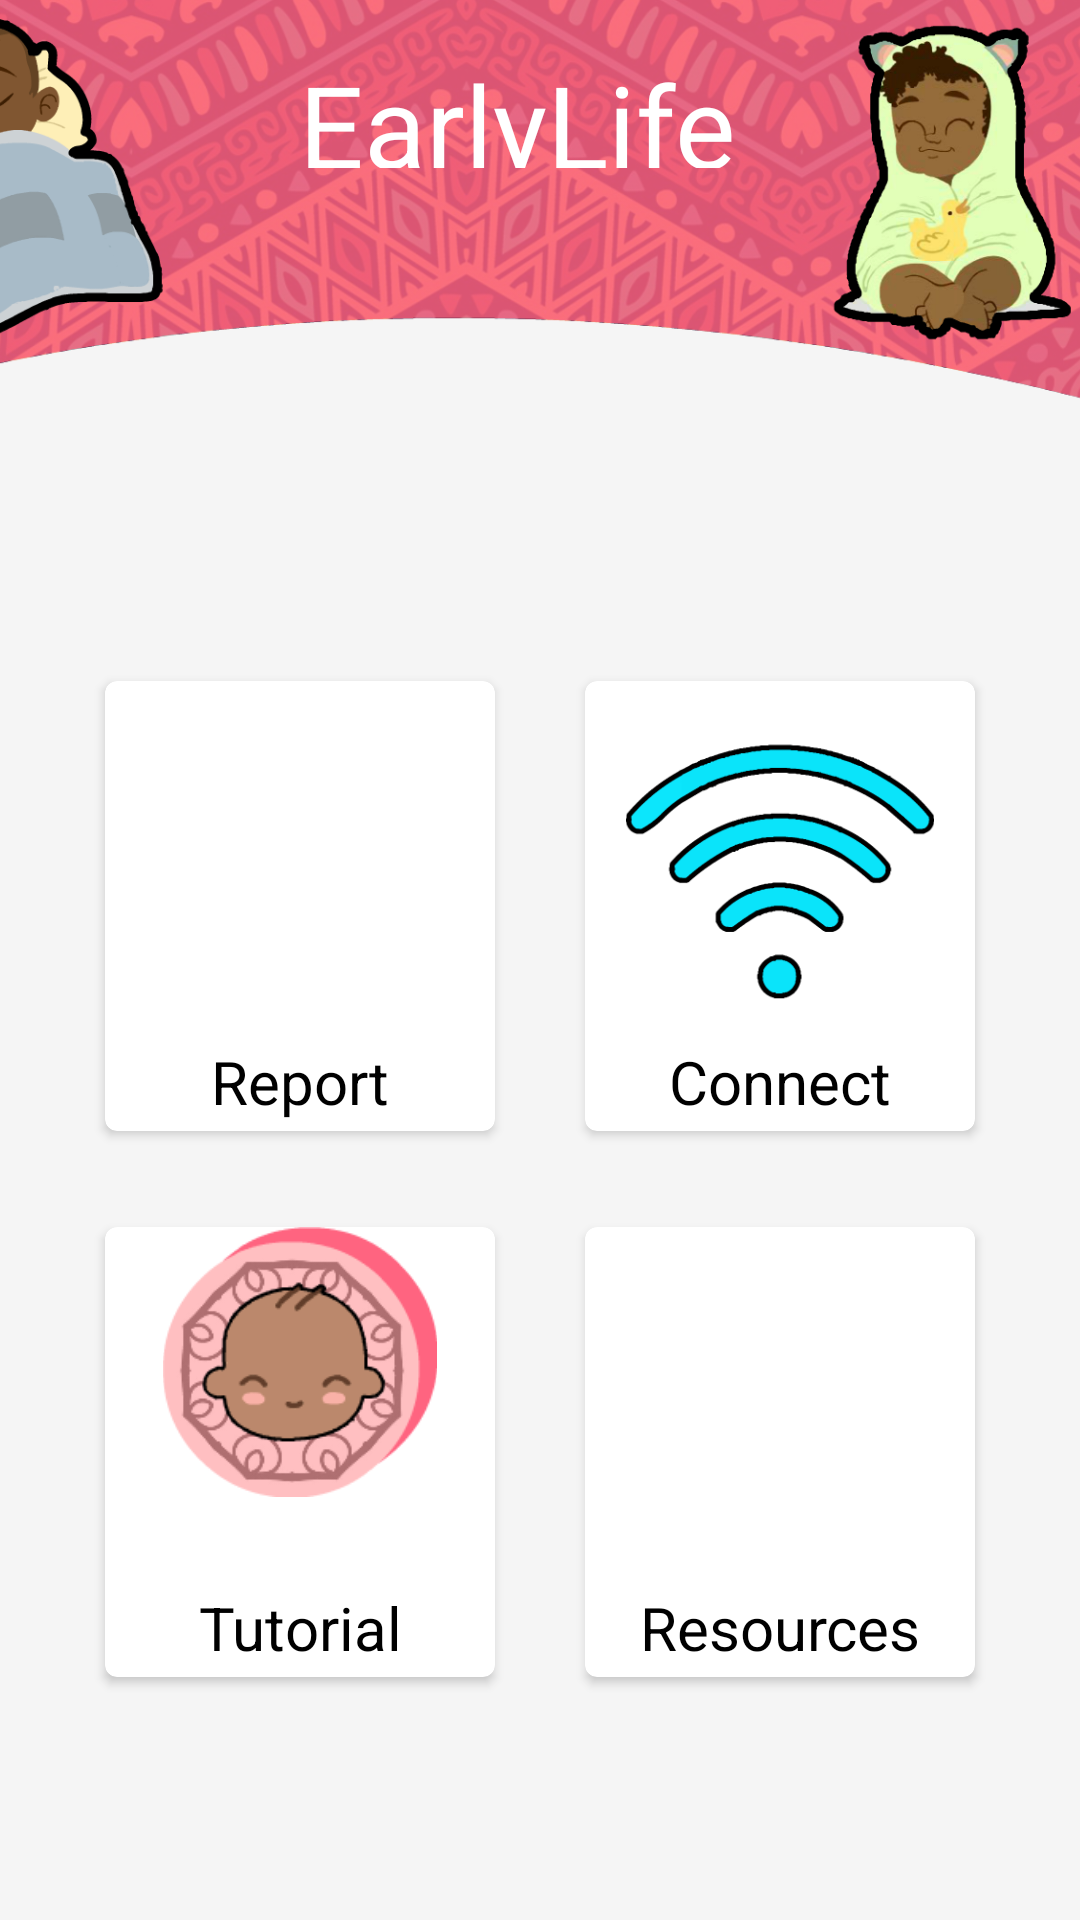

Icon bounding boxes for this 1080px x 1920px phone screenshot, format (x1, y1, x2, y2):
babyappicon: (163, 1227, 437, 1497)
wifiicon: (626, 744, 934, 999)
